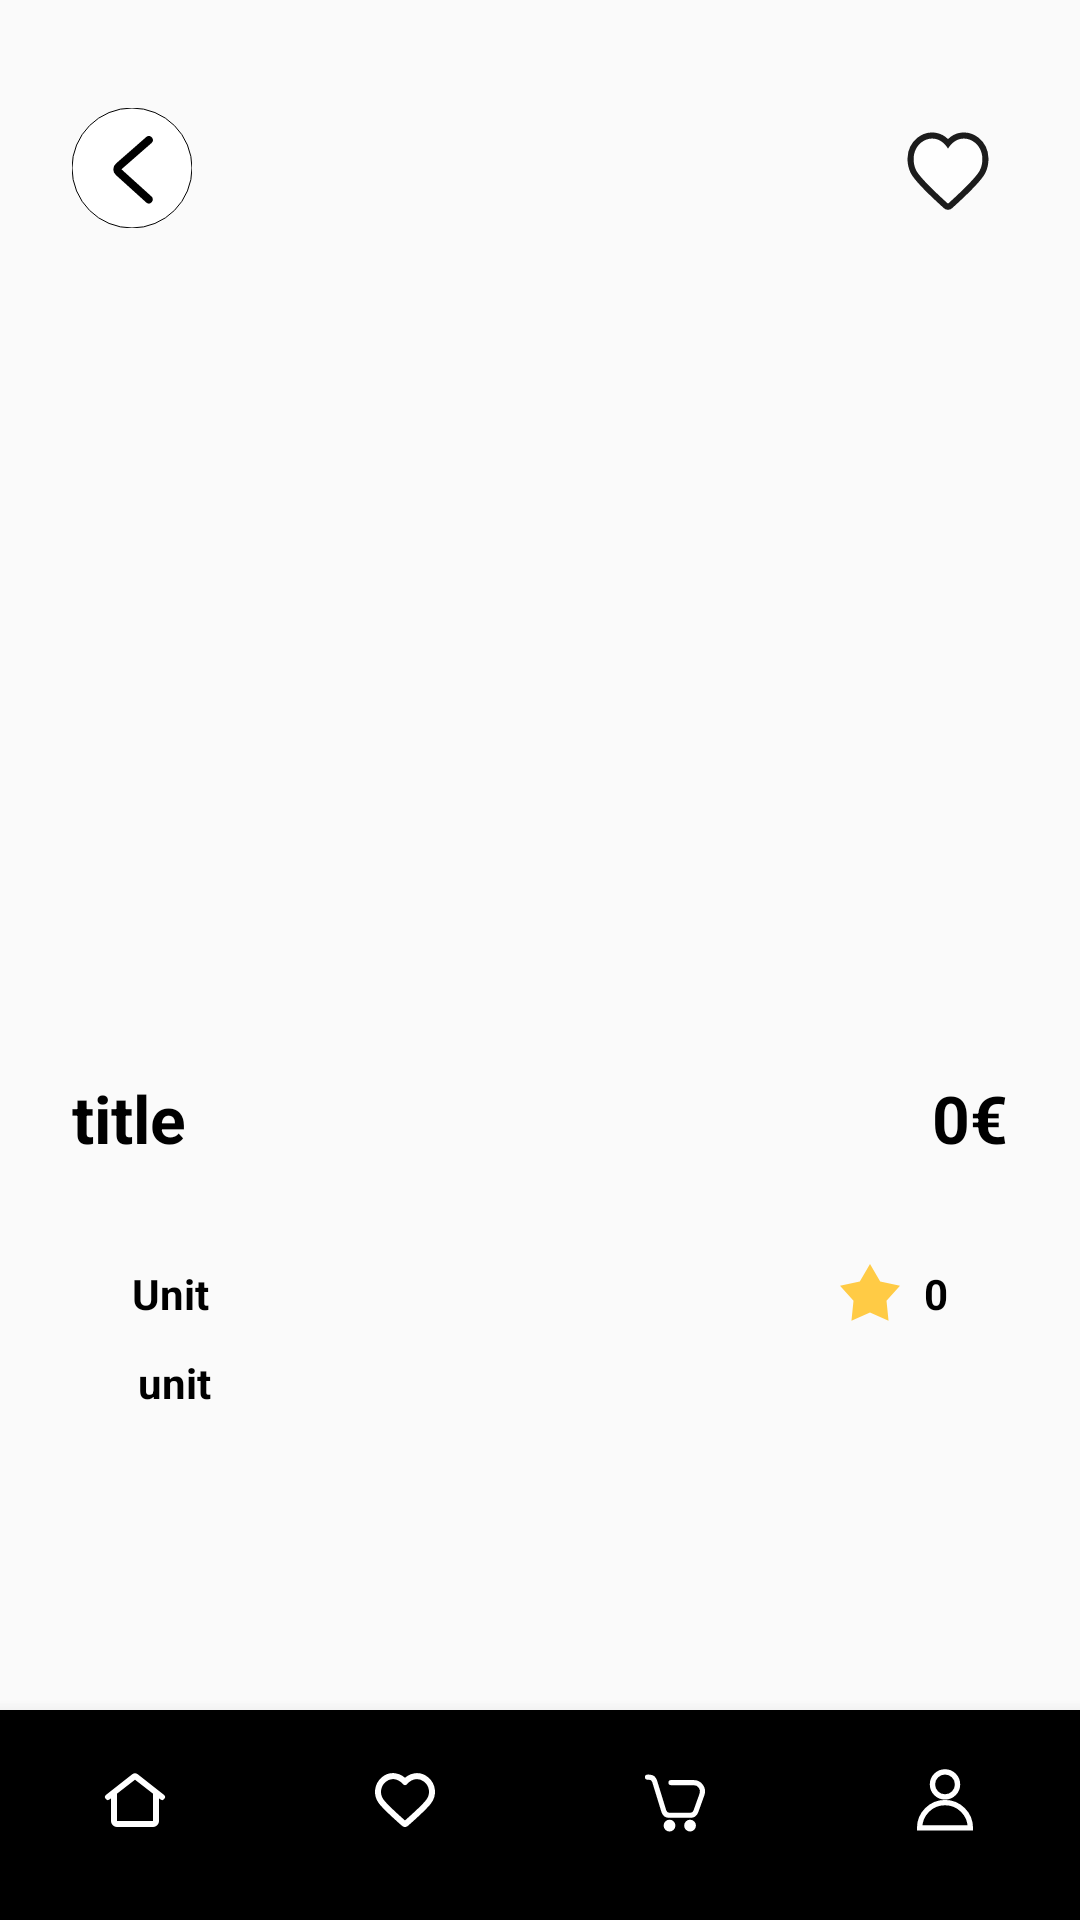

Icon click points for this 1080 x 1920 phone screenshot, format [x,y]:
star: [870,1292]
